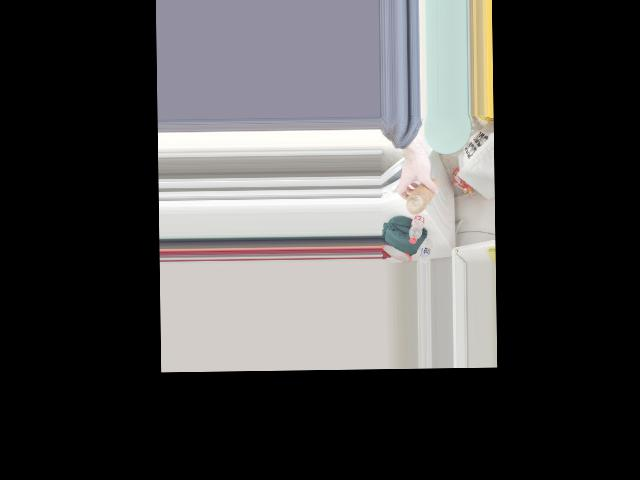sweet_potato: (408, 179, 440, 214)
